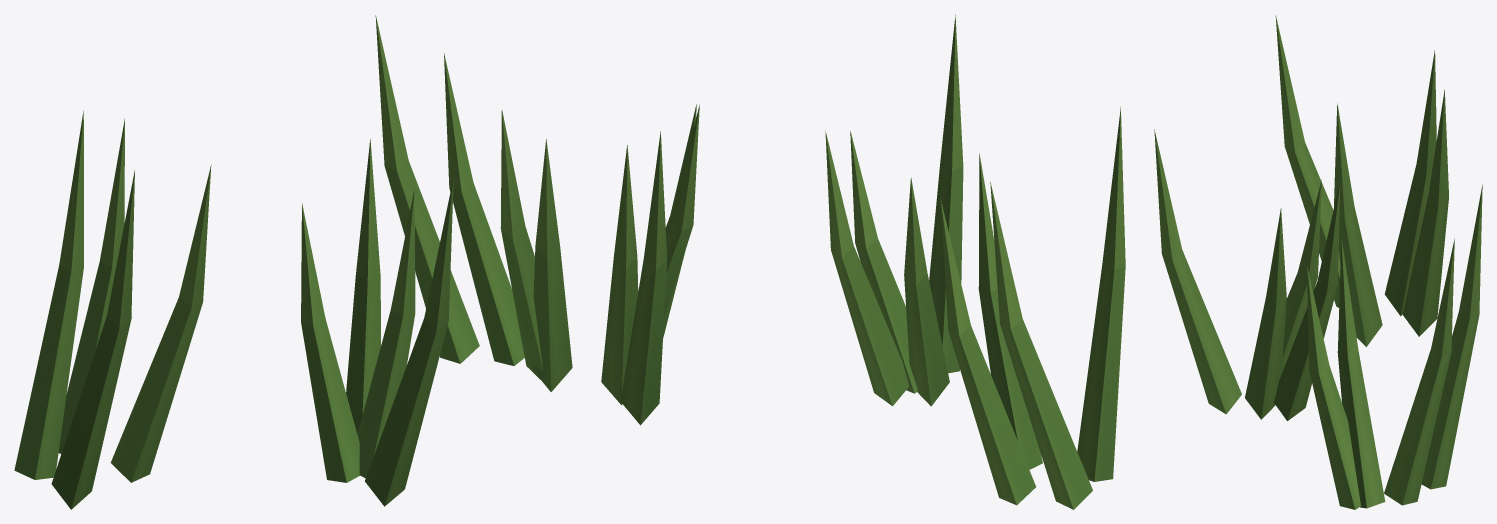
Rendered from SM_Grass_Clump02_LOD1.fbx.
The picture shows the model from 3 angles, left to right: view 1: azimuth 30°, elevation 25°; view 2: azimuth 150°, elevation 25°; view 3: azimuth 270°, elevation 25°; orthographic projection. The views are drawn at different scales.
Parts seen in each view (by area): view 1: SM_Grass_Clump02_LOD1; view 2: SM_Grass_Clump02_LOD1; view 3: SM_Grass_Clump02_LOD1.
Part boxes in pixels (box(x1,y1,x2,y2)): SM_Grass_Clump02_LOD1: box(14, 15, 572, 509); SM_Grass_Clump02_LOD1: box(601, 14, 1125, 509); SM_Grass_Clump02_LOD1: box(1154, 15, 1482, 509).
Bounding box in the file's own units: 1.76 × 1.17 × 1.14.
Materials: 1 (1 with a texture image).
